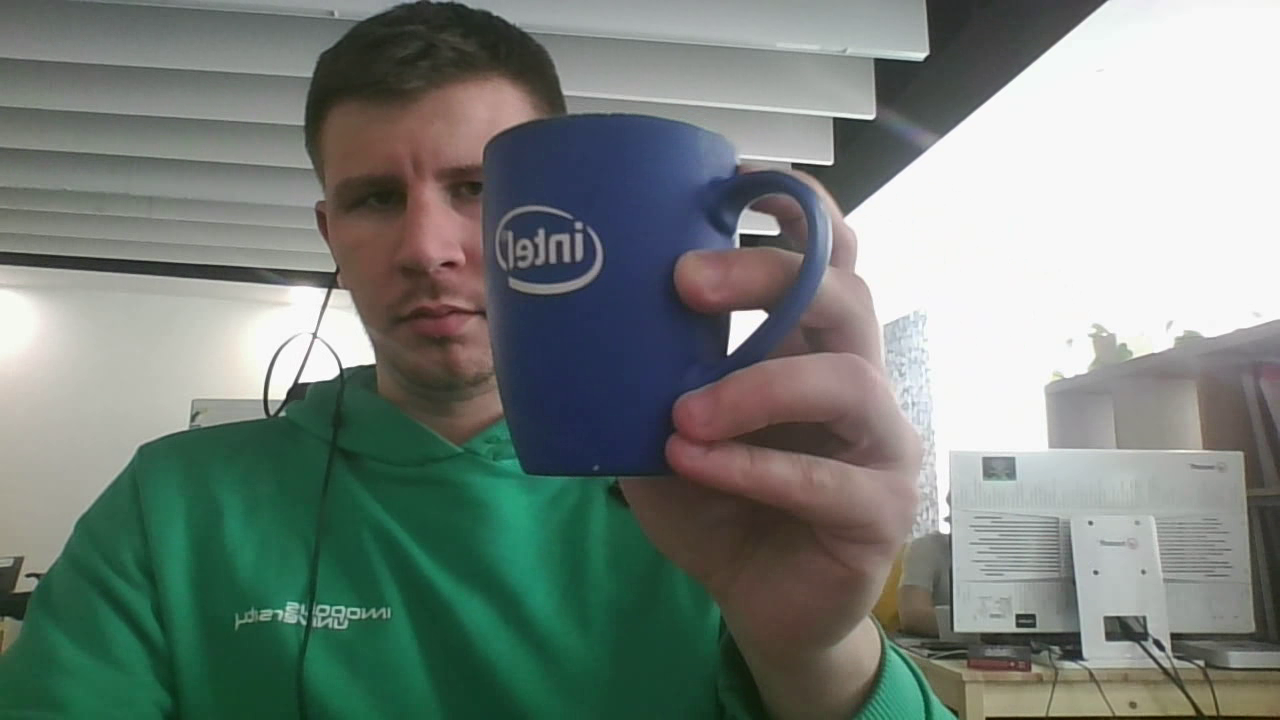cup: (479, 116, 832, 482)
